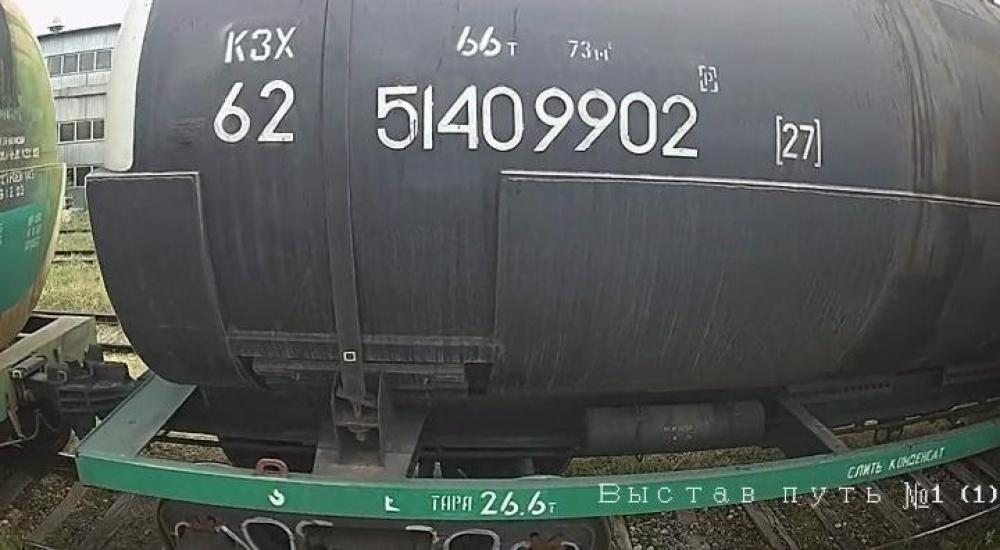Wagon-number: (370, 79, 706, 163)
